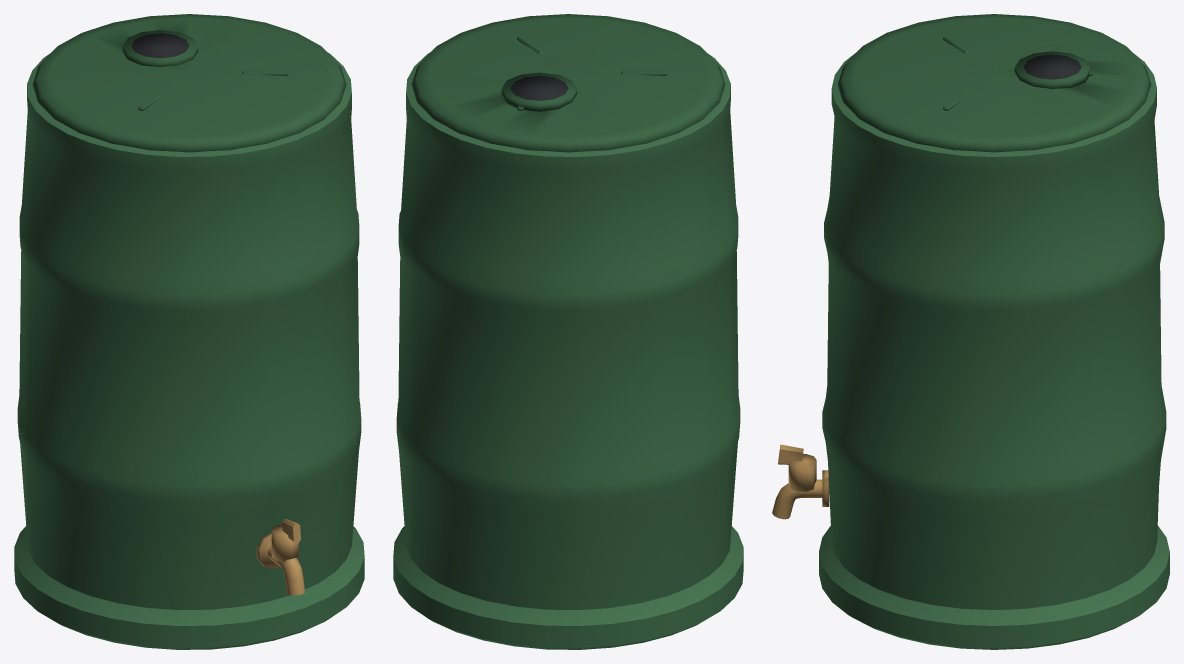
File: rainBarrel.glb
The picture shows the model from 3 angles, left to right: view 1: azimuth 30°, elevation 25°; view 2: azimuth 150°, elevation 25°; view 3: azimuth 270°, elevation 25°; orthographic projection.
Visible parts, largest first — view 1: rainBarrel; view 2: rainBarrel; view 3: rainBarrel.
Boxes of the visible parts, x1,y1,x2,y2 form: rainBarrel: [14, 14, 364, 649]; rainBarrel: [393, 14, 743, 649]; rainBarrel: [772, 14, 1169, 649].
Bounding box in the file's own units: 0.604 × 0.971 × 0.6846.
